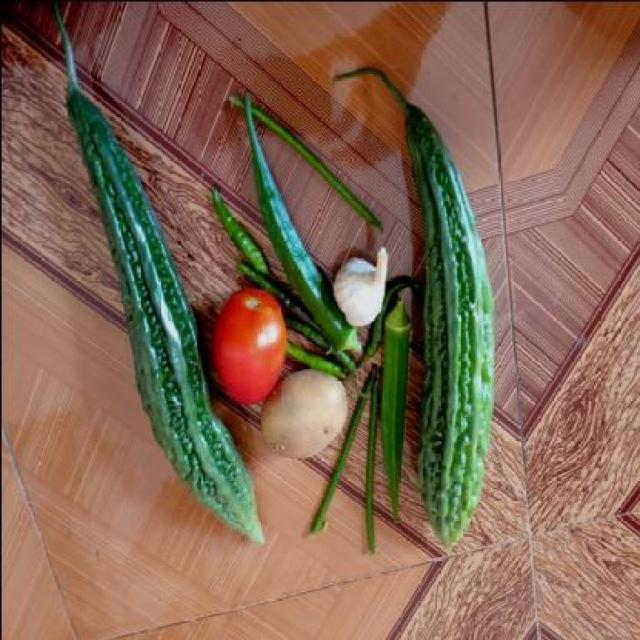Bitter melon: (19, 46, 216, 548), (408, 94, 490, 554)
Garlic: (322, 225, 388, 326)
Green Chili: (202, 185, 270, 278)
Lady finger: (376, 295, 412, 523)
Potato: (254, 370, 351, 464)
Tomato: (210, 285, 288, 403)
